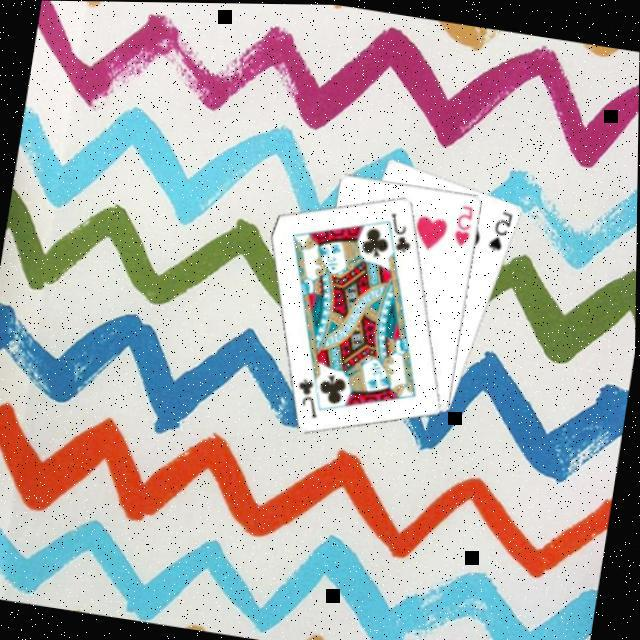5H: (453, 201, 480, 249)
5S: (487, 205, 520, 256)
JC: (385, 208, 422, 256), (293, 373, 330, 421)
